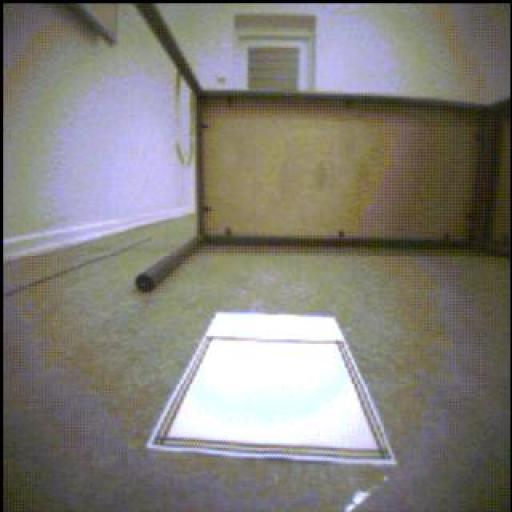Pad: (173, 310, 389, 467)
